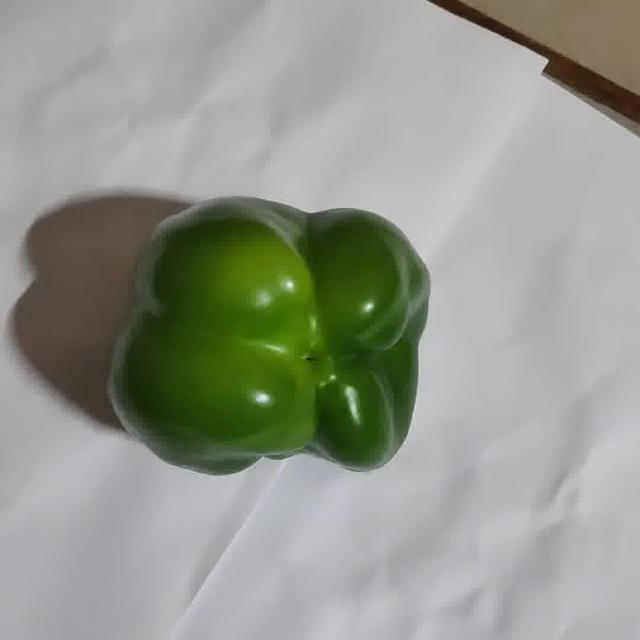Bell Pepper: (107, 199, 428, 475)
